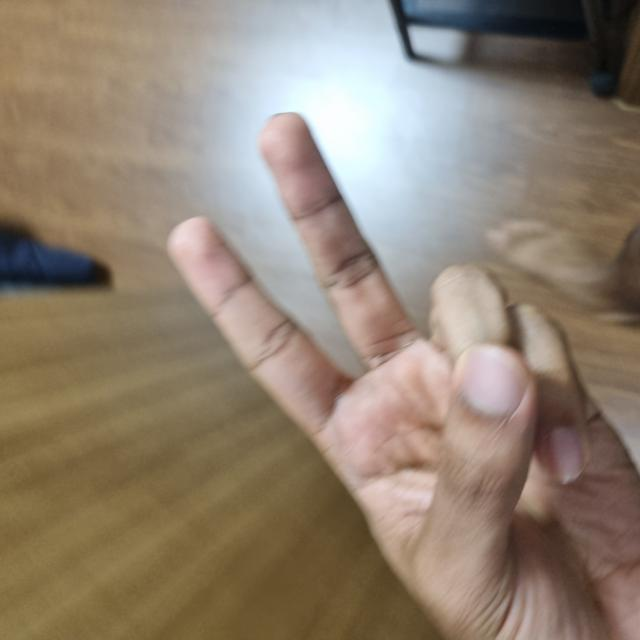Scissors: (0, 177, 524, 639)
